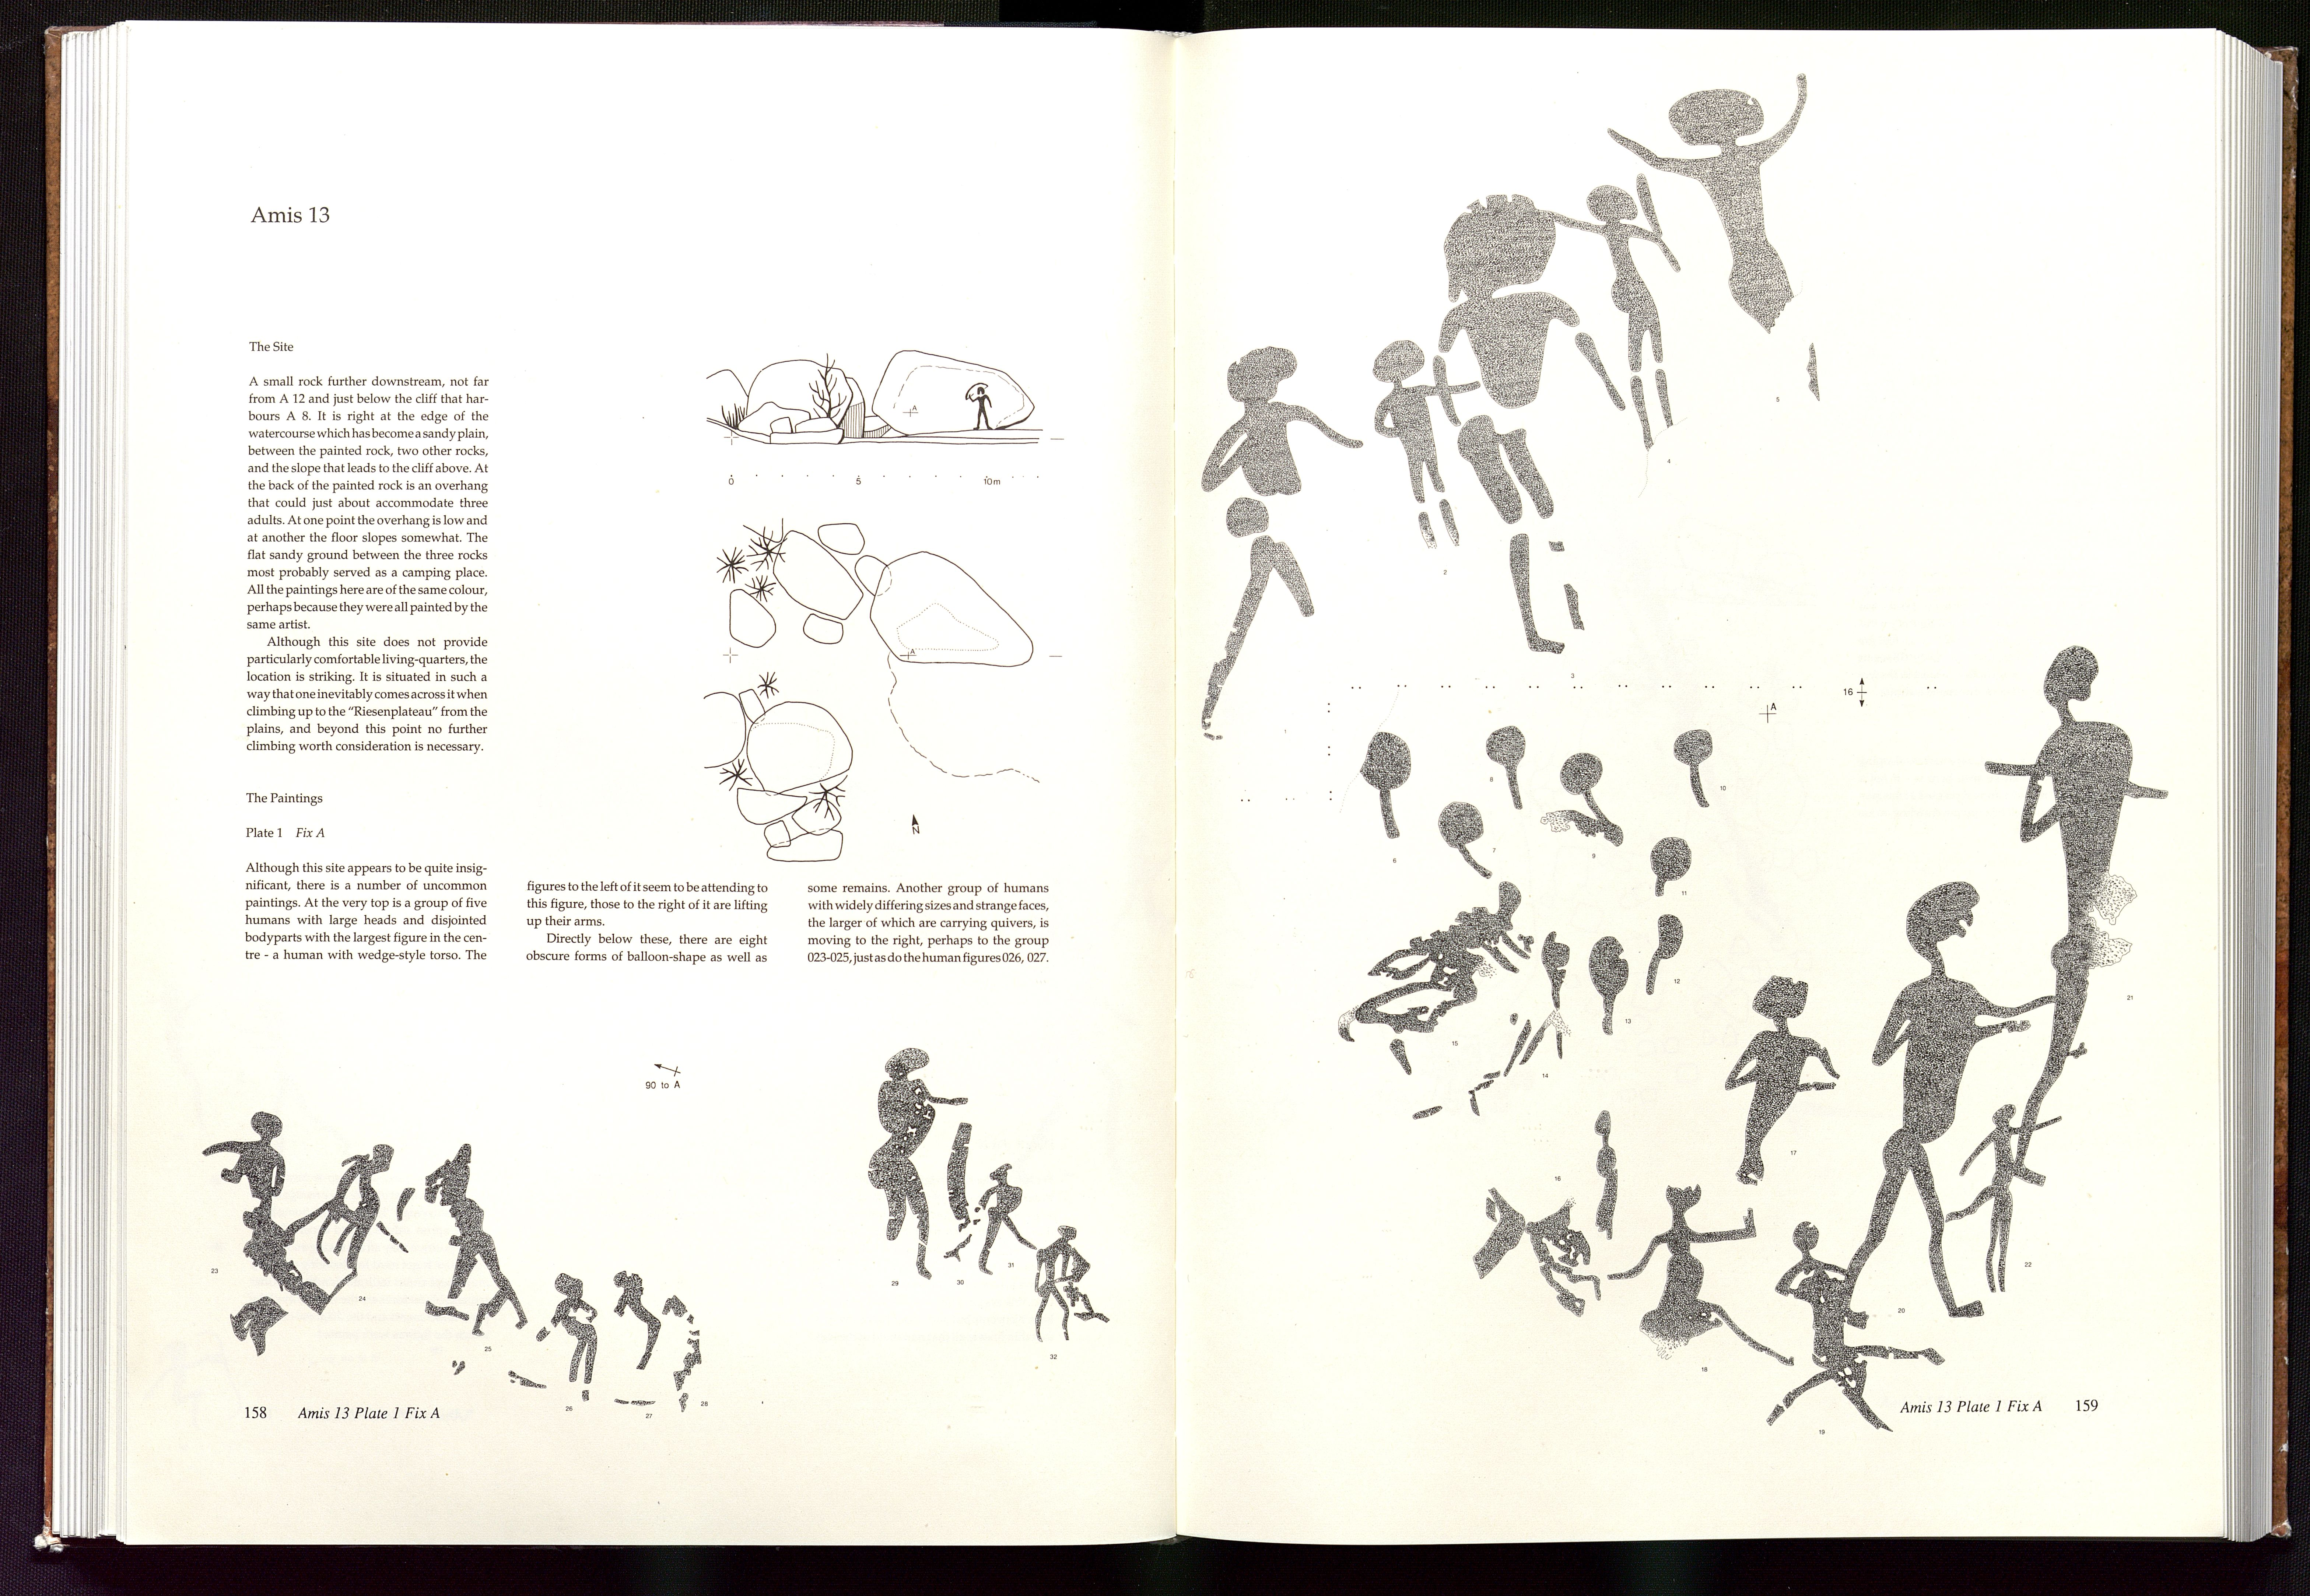human: (1969, 637, 2175, 1189), (1429, 165, 1647, 669), (1601, 67, 1851, 411), (1183, 323, 1380, 753), (1841, 878, 1988, 1332), (1532, 178, 1704, 450), (1745, 1217, 1959, 1432), (196, 1096, 331, 1359), (1723, 968, 1846, 1211), (1362, 327, 1490, 556), (864, 1035, 967, 1295), (1964, 1104, 2065, 1317), (969, 1150, 1041, 1298), (1026, 1217, 1090, 1351)
